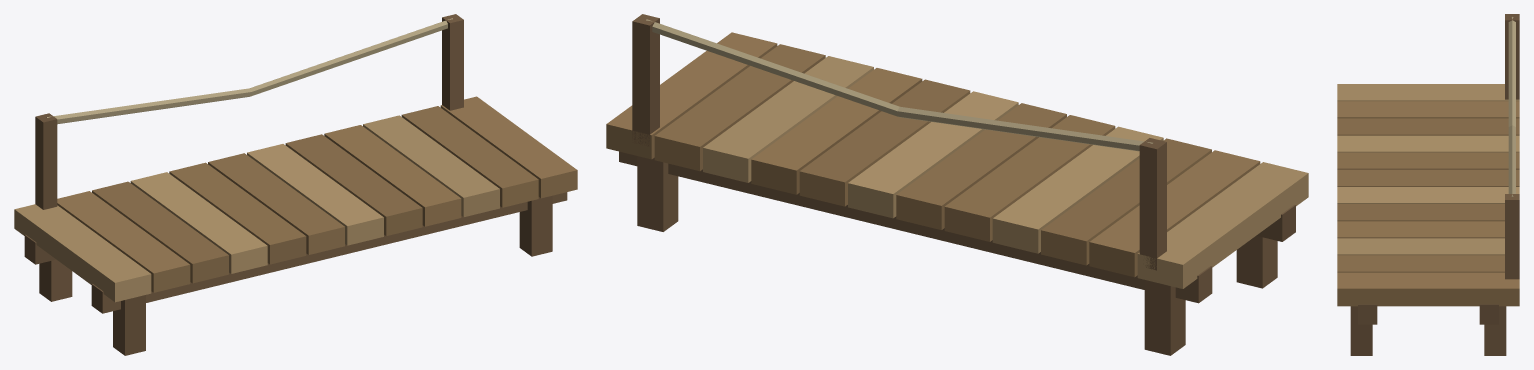
Rendered from boardwalk-straight.glb.
The picture shows the model from 3 angles, left to right: view 1: azimuth 30°, elevation 25°; view 2: azimuth 150°, elevation 25°; view 3: azimuth 270°, elevation 25°; orthographic projection. The views are drawn at different scales.
Visible parts, largest first — view 1: boardwalk-straight; view 2: boardwalk-straight; view 3: boardwalk-straight.
Part boxes in pixels (<box>): boardwalk-straight: <box>14,14,577,355</box>; boardwalk-straight: <box>606,14,1308,355</box>; boardwalk-straight: <box>1337,14,1519,355</box>.
Bounding box in the file's own units: 4 × 1.4 × 1.5.
